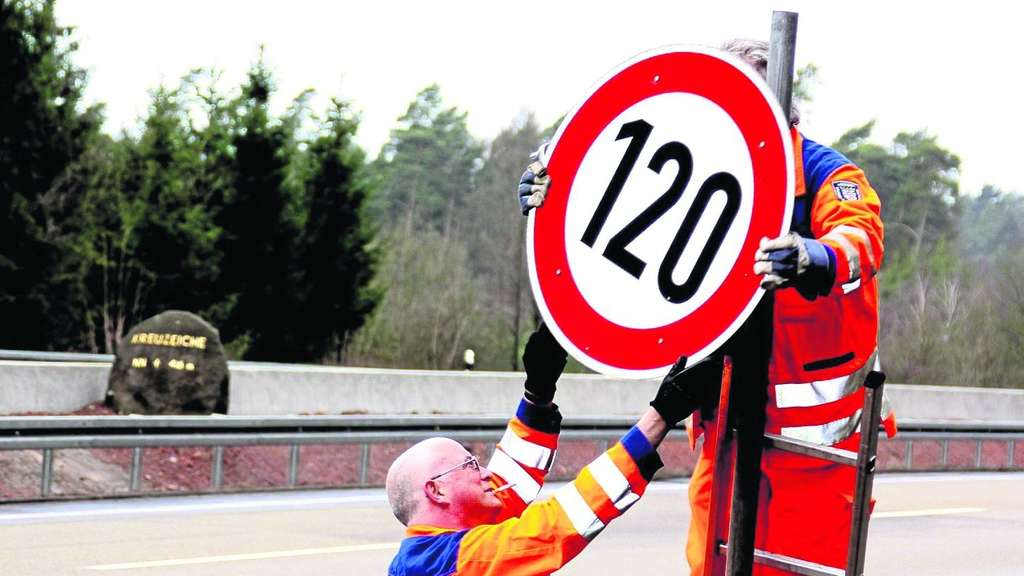Speed_limit_120km: (520, 46, 798, 375)
